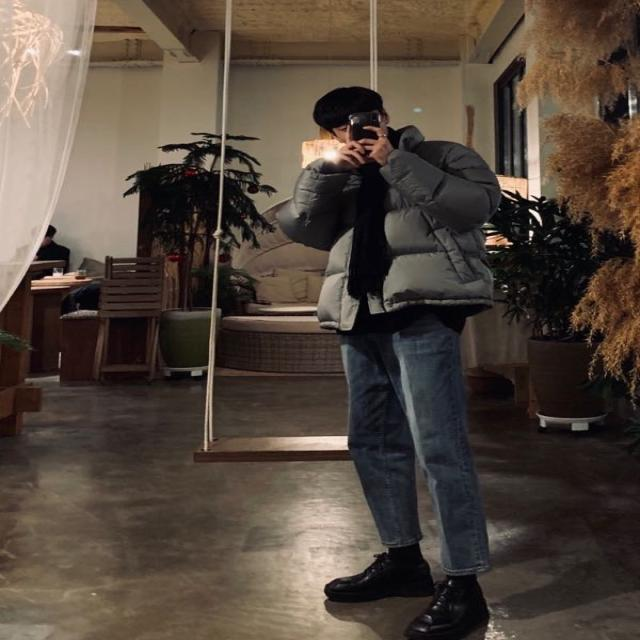denimpants: (339, 304, 493, 577)
padding: (282, 122, 506, 341)
